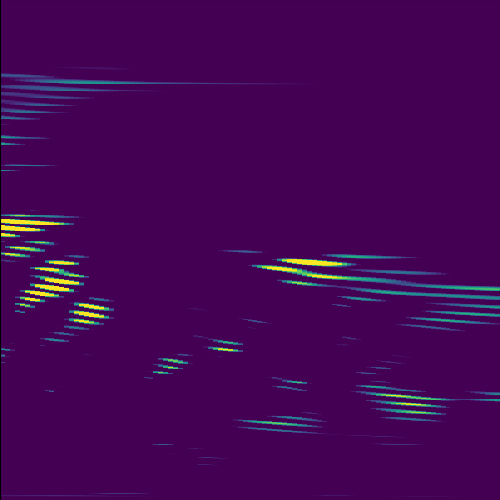semblance: (9, 254, 92, 315), (1, 213, 81, 260), (46, 296, 116, 347)
